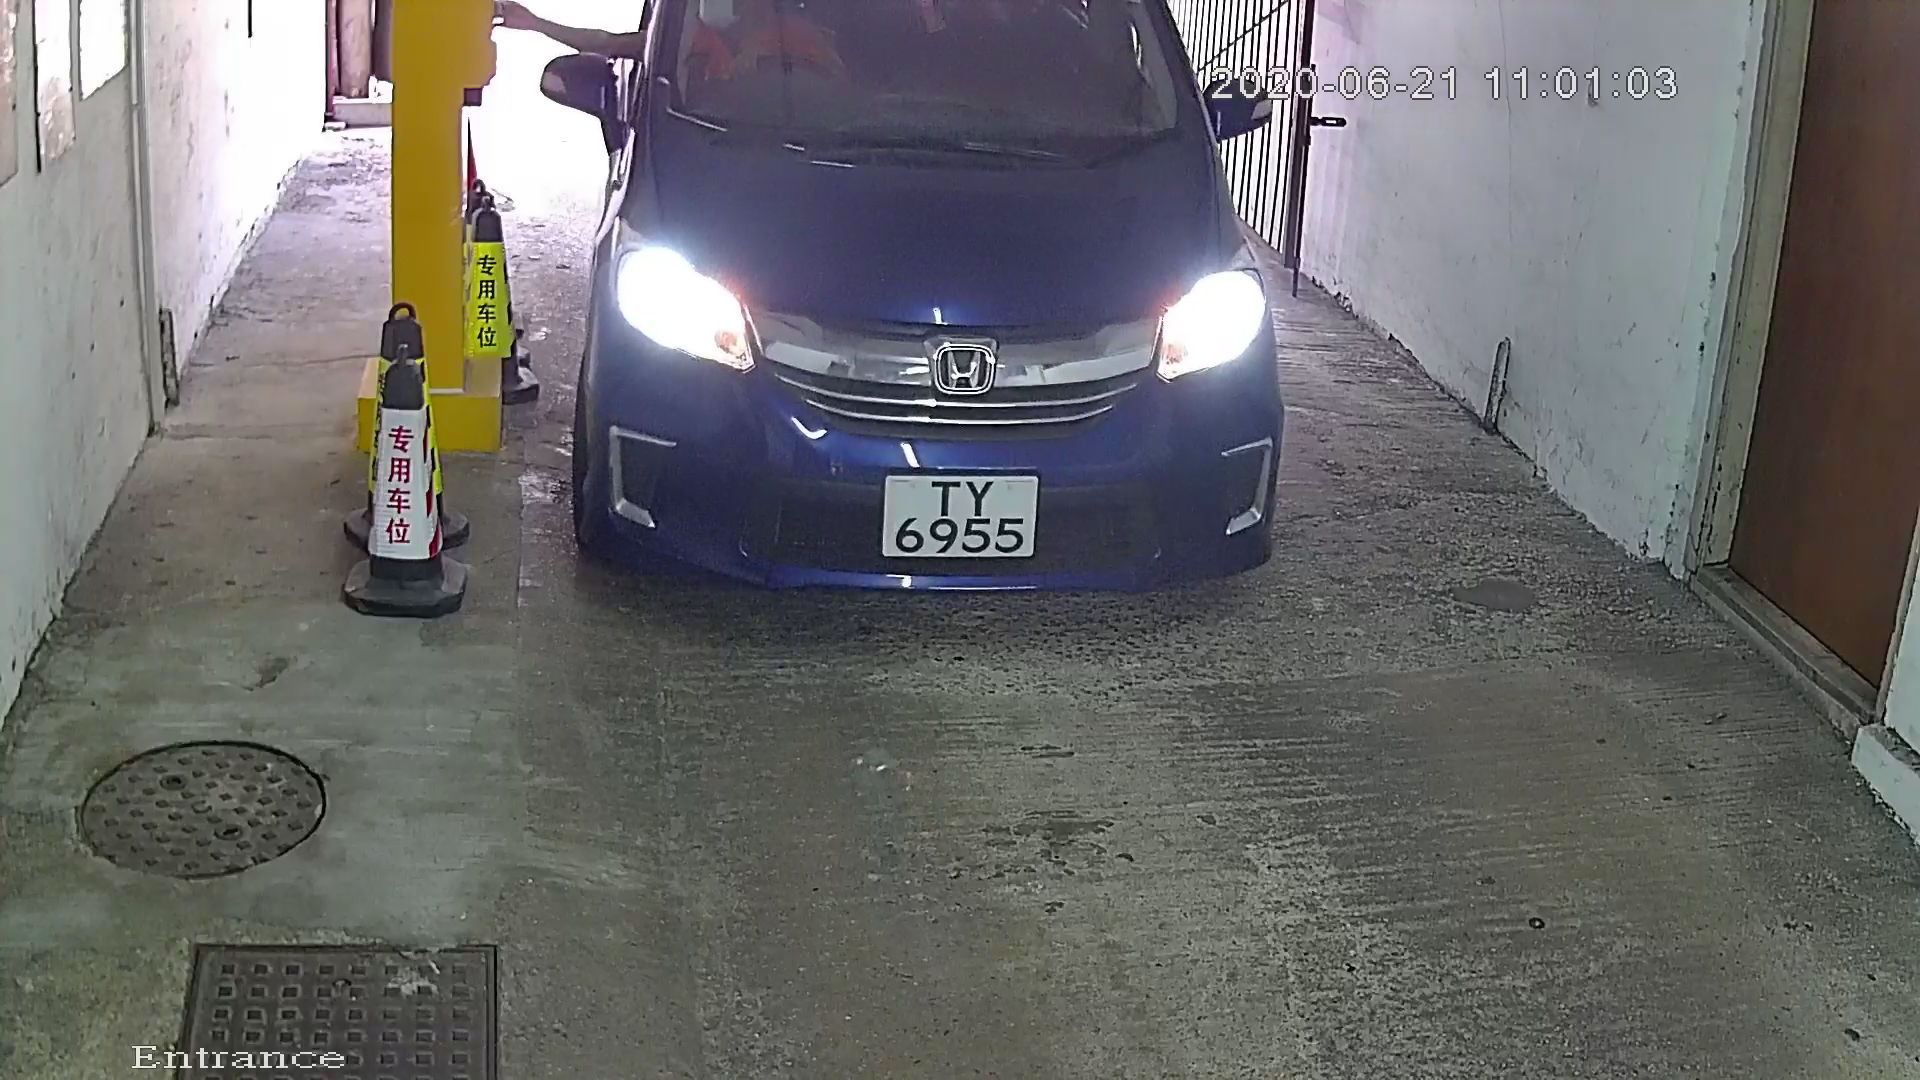privatecar: (535, 3, 1319, 647)
